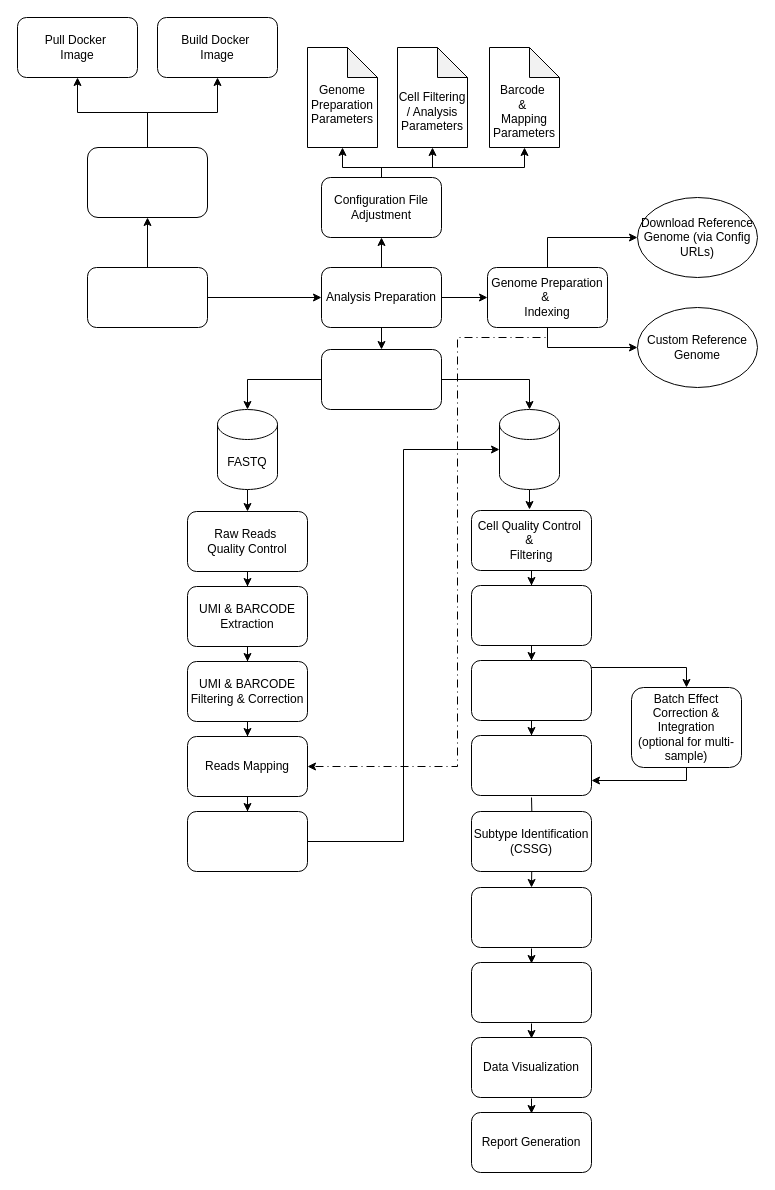
This 775x1190 diagram has some shape labels left out. The shapes that lost their labels are listed below. From the top down, each one's box as (x1, y1, x2, y2) in pixels, then its label:
(86, 146, 208, 218): Clone Repository (GitHub) & Installation
(86, 266, 208, 328): JSEQ_scRNAseq
(320, 348, 442, 410): Project Creation & Analysis
(498, 408, 560, 490): Count Matrix
(470, 584, 592, 646): Feature Selection & Normalization
(470, 660, 592, 720): Dimensionality Reduction (PCA, UMAP)
(470, 734, 592, 796): Cell Clustering
(186, 810, 308, 872): Files Conversion & Matrix Generation
(470, 886, 592, 948): Automated Cell Annotation
(470, 962, 592, 1022): Marker Gene Selection
